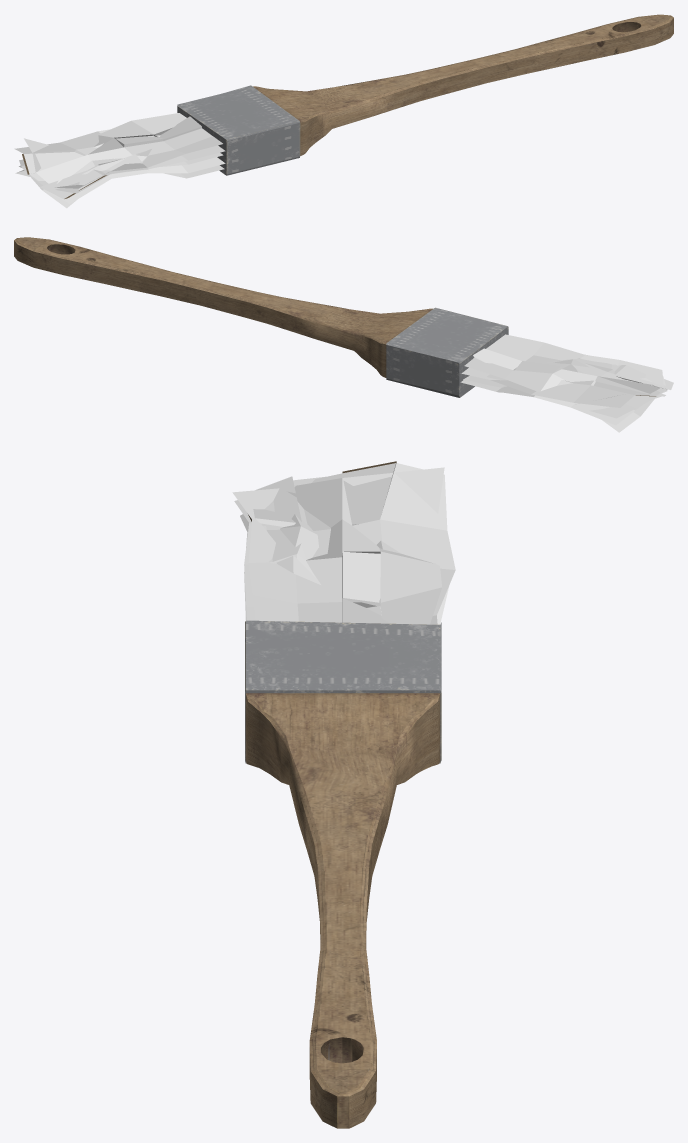
File: Long_Brush.fbx
3 views of the same model, one above another, from view 1: azimuth 30°, elevation 25°; view 2: azimuth 150°, elevation 25°; view 3: azimuth 270°, elevation 25° (orthographic). The views are drawn at different scales.
Visible parts, largest first — view 1: Long_Brush; view 2: Long_Brush; view 3: Long_Brush.
Boxes of the visible parts, <box> form: Long_Brush: <box>14,14,673,208</box>; Long_Brush: <box>14,237,673,432</box>; Long_Brush: <box>232,461,455,1128</box>.
Bounding box in the file's own units: 0.2757 × 0.0158 × 0.0415.
